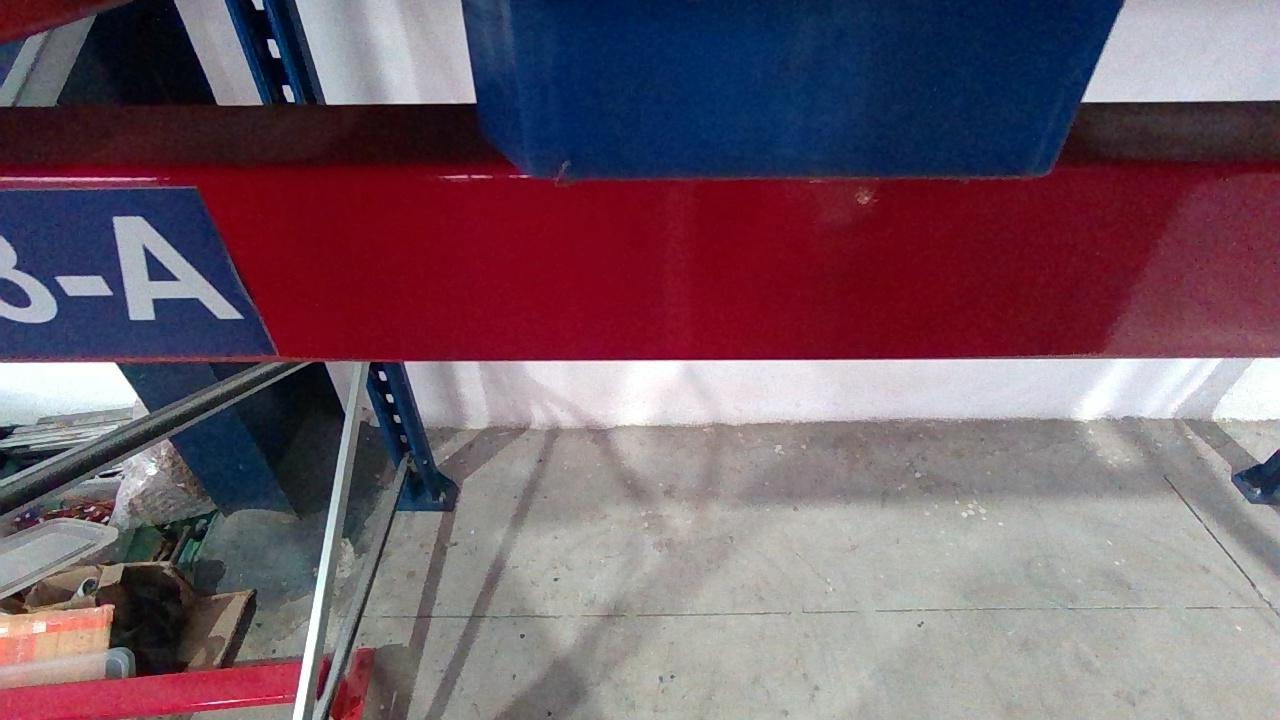h_rack: (0, 158, 1280, 364)
